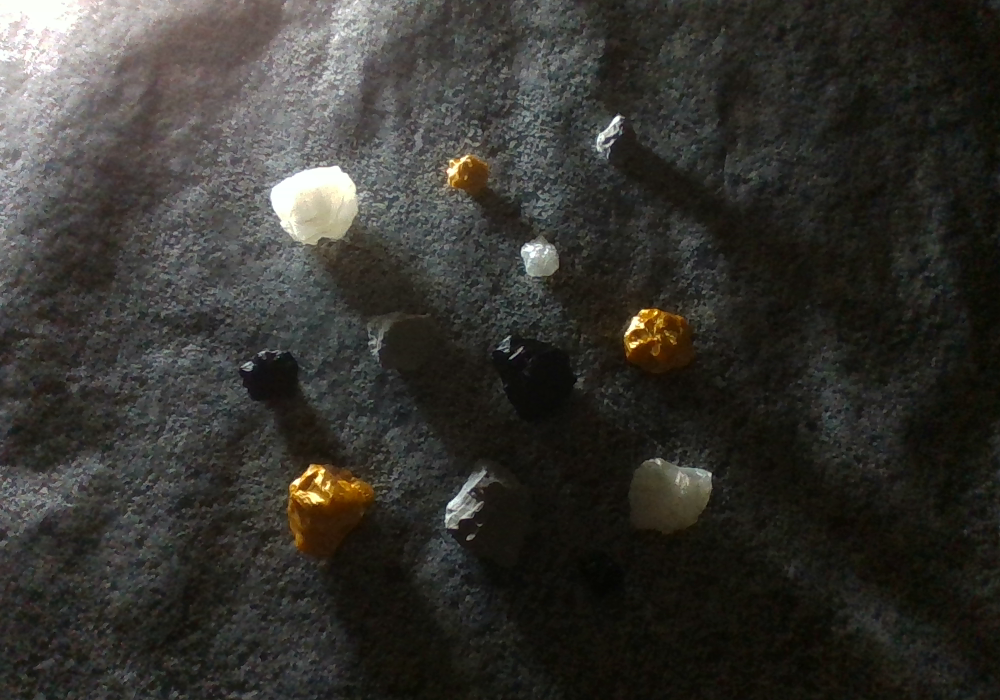anorthosite: (270, 167, 359, 247), (628, 457, 712, 535), (522, 234, 560, 277)
basalt: (491, 334, 577, 423), (239, 349, 301, 402), (578, 550, 626, 598)
metal: (287, 463, 373, 558), (623, 308, 696, 374), (448, 155, 489, 195)
regolith: (443, 456, 535, 570), (367, 312, 440, 372), (595, 116, 638, 166)
